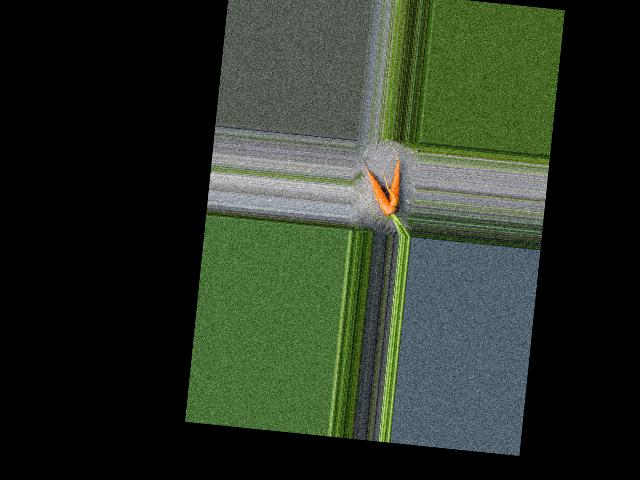carrot: (381, 147, 410, 210)
